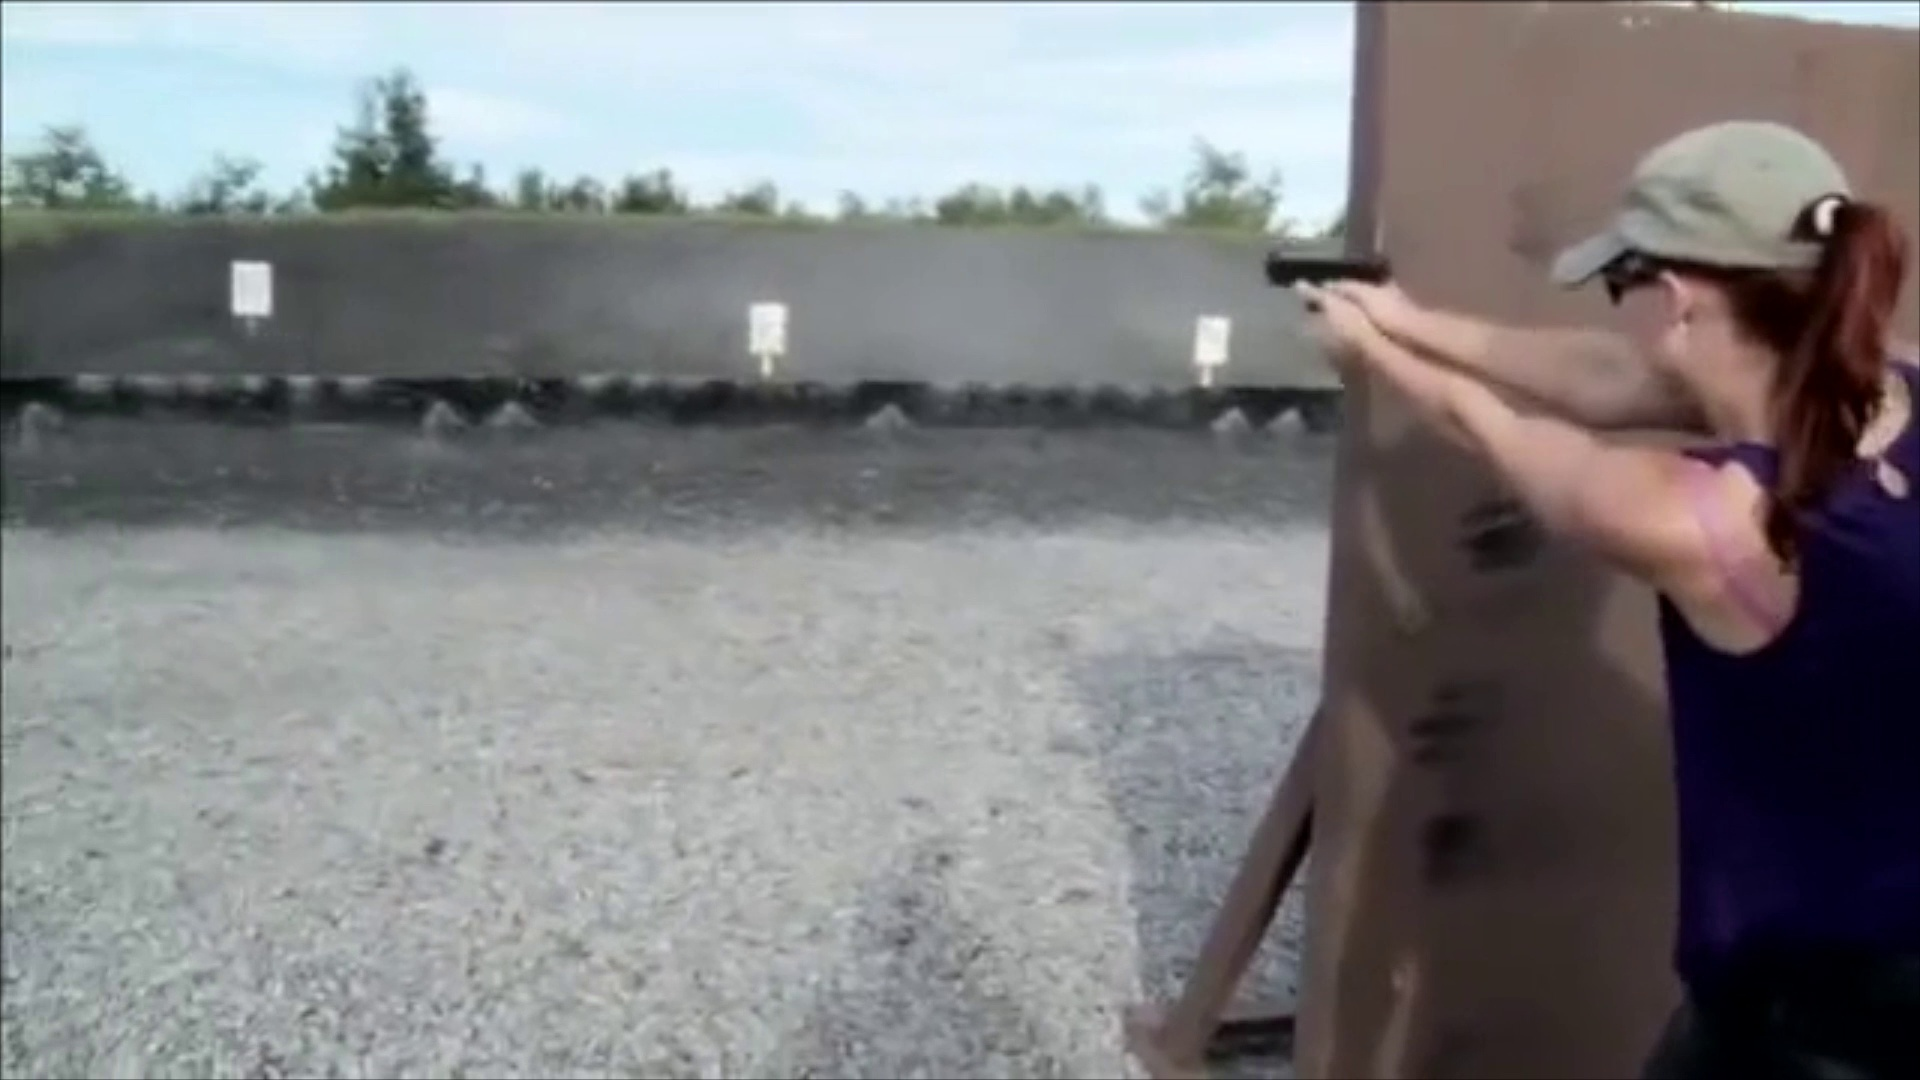gun: (1254, 241, 1406, 301)
